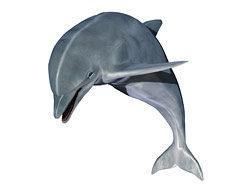fish: (47, 11, 206, 182)
